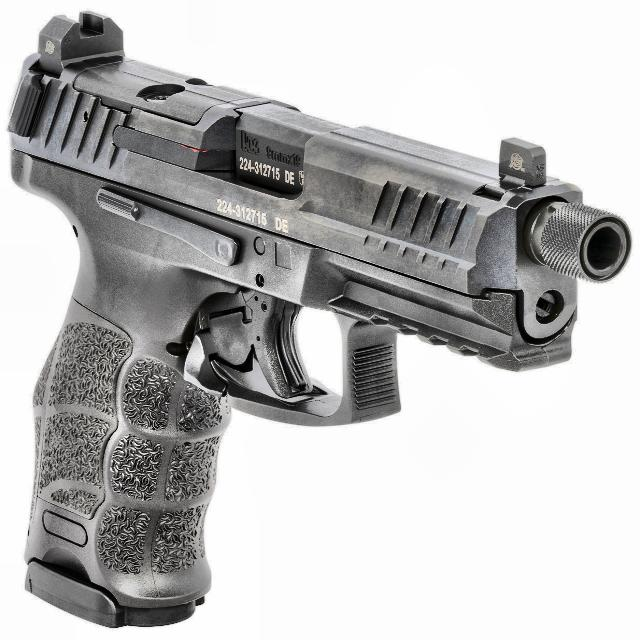HKVP9: (5, 8, 632, 630)
